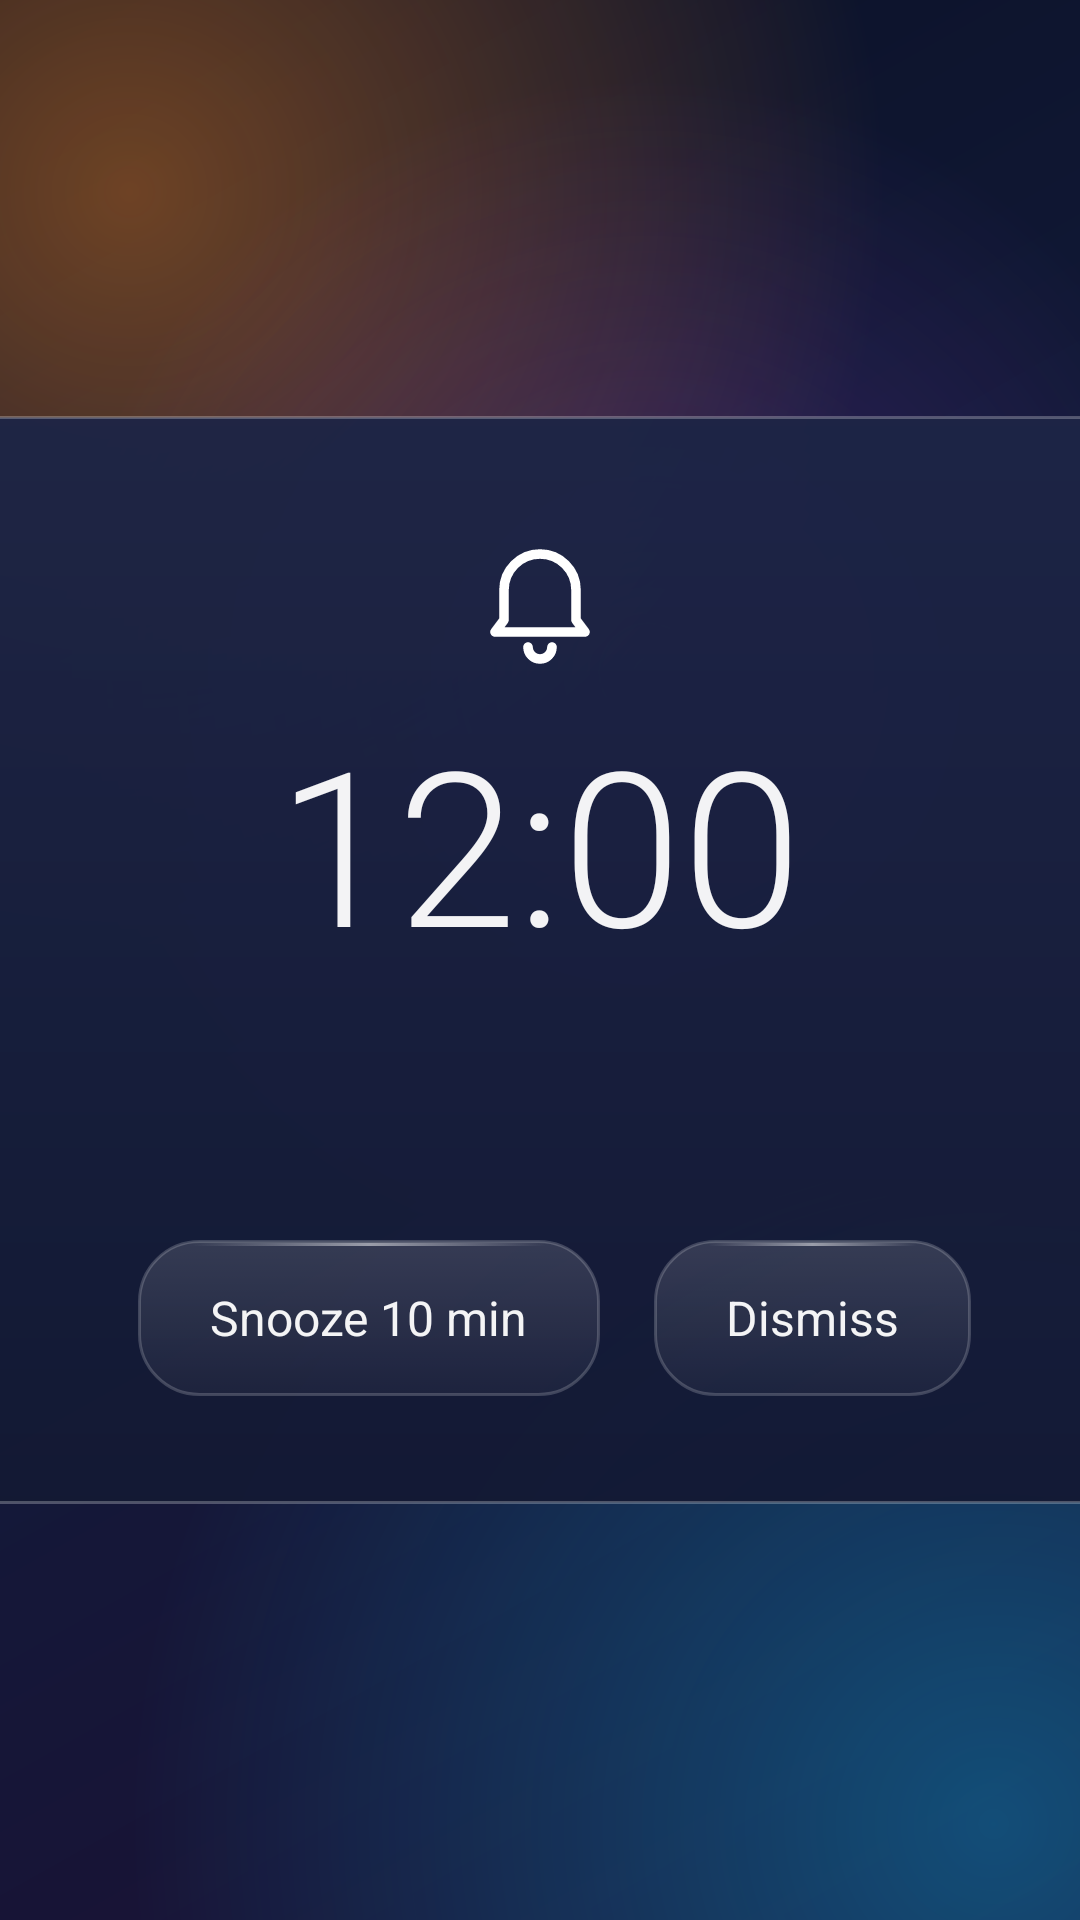

Icons on this 1080px x 1920px Android screen, each with the point to tap as point (x, y):
bell: point (540, 606)
